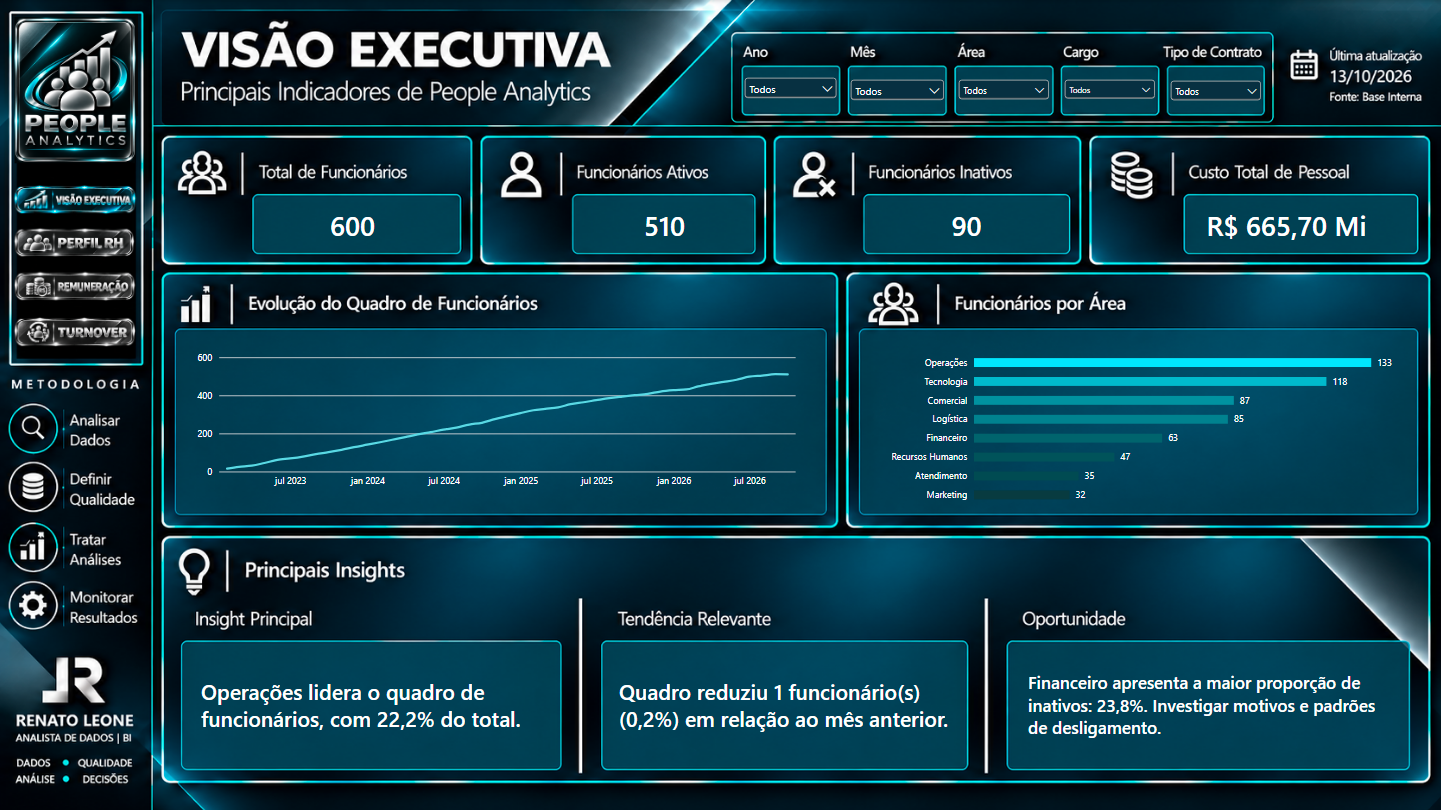

This screenshot's page, from the dashboard's own definition file:
{"tool":"powerbi","page":{"name":"VISÄO EXECUTIVA","canvas":[1920,1080],"ordinal":0},"visuals":[{"type":"shape","box":[142.7,18.7,42.7,136],"z":0},{"type":"image","box":[14,223,173,83],"z":1000},{"type":"image","box":[15,286,171,70],"z":2000},{"type":"image","box":[15,341,172,79],"z":3000},{"type":"image","box":[15,407,170,67],"z":4000},{"type":"image","box":[10,22,181,195],"z":5000},{"type":"cardVisual","fields":{"Data":["Medidas.Total Funcionario"]},"box":[405.7,255.7,129.9,85.7],"z":6000},{"type":"cardVisual","fields":{"Data":["Medidas.Funcionários Ativos"]},"box":[820.8,255.7,129.9,85.7],"z":7000},{"type":"cardVisual","fields":{"Data":["Medidas.Funcionários Inativos"]},"box":[1222.3,255.4,129.9,85.7],"z":7001},{"type":"cardVisual","fields":{"Data":["Medidas.Custo Total Pessoal"]},"box":[1569.3,256,286.7,85.3],"z":7002},{"type":"slicer","fields":{"Values":["funcionarios.area"]},"box":[1271.3,101.7,129.6,42.6],"z":7003},{"type":"slicer","fields":{"Values":["funcionarios.cargo_reduzido"]},"box":[1412.2,101.7,129.6,42.6],"z":7004},{"type":"slicer","fields":{"Values":["funcionarios.tipo_contrato"]},"box":[1553.3,102,130,42.7],"z":7005},{"type":"slicer","fields":{"Values":["dim_calendario.mes_nome_PT"]},"box":[1127.7,101.5,133.8,42.3],"z":7006},{"type":"slicer","fields":{"Values":["dim_calendario.ano"]},"box":[986.9,98.5,132.3,42.3],"z":7007},{"type":"lineChart","fields":{"Category":["historico_quadro_mensal.data_referencia"],"Y":["Sum(historico_quadro_mensal.funcionarios_ativos_fim_mes)"]},"box":[248,452,838.7,216],"z":7008},{"type":"clusteredBarChart","fields":{"Category":["funcionarios.area"],"Y":["Count(funcionarios.id_funcionario)"]},"box":[1164,444,705.3,246.7],"z":7009},{"type":"cardVisual","fields":{"Data":["Medidas.Insight Principal"]},"box":[253.3,860,484,154.7],"z":7010},{"type":"cardVisual","fields":{"Data":["Medidas.Tendência Relevante"]},"box":[809.3,860,477.3,154.7],"z":7011},{"type":"cardVisual","fields":{"Data":["Medidas.Oportunidade"]},"box":[1352,860,517.3,154.7],"z":7012}]}

Visuals, with their boxes in screenshot pixels (x1, y1, x2, y2), scaled from the page's 1920x1080 canvas onto the 1441x810 screenshot:
shape: detection(107, 14, 139, 116)
image: detection(11, 167, 140, 230)
image: detection(11, 214, 140, 267)
image: detection(11, 256, 140, 315)
image: detection(11, 305, 139, 356)
image: detection(8, 16, 143, 163)
cardVisual - Medidas.Total Funcionario: detection(304, 192, 402, 256)
cardVisual - Medidas.Funcionários Ativos: detection(616, 192, 714, 256)
cardVisual - Medidas.Funcionários Inativos: detection(917, 192, 1015, 256)
cardVisual - Medidas.Custo Total Pessoal: detection(1178, 192, 1393, 256)
slicer - funcionarios.area: detection(954, 76, 1051, 108)
slicer - funcionarios.cargo_reduzido: detection(1060, 76, 1157, 108)
slicer - funcionarios.tipo_contrato: detection(1166, 76, 1263, 109)
slicer - dim_calendario.mes_nome_PT: detection(846, 76, 947, 108)
slicer - dim_calendario.ano: detection(741, 74, 840, 106)
lineChart - historico_quadro_mensal.data_referencia x Sum(historico_quadro_mensal.funcionarios_ativos_fim_mes): detection(186, 339, 816, 501)
clusteredBarChart - funcionarios.area x Count(funcionarios.id_funcionario): detection(874, 333, 1403, 518)
cardVisual - Medidas.Insight Principal: detection(190, 645, 553, 761)
cardVisual - Medidas.Tendência Relevante: detection(607, 645, 966, 761)
cardVisual - Medidas.Oportunidade: detection(1015, 645, 1403, 761)
